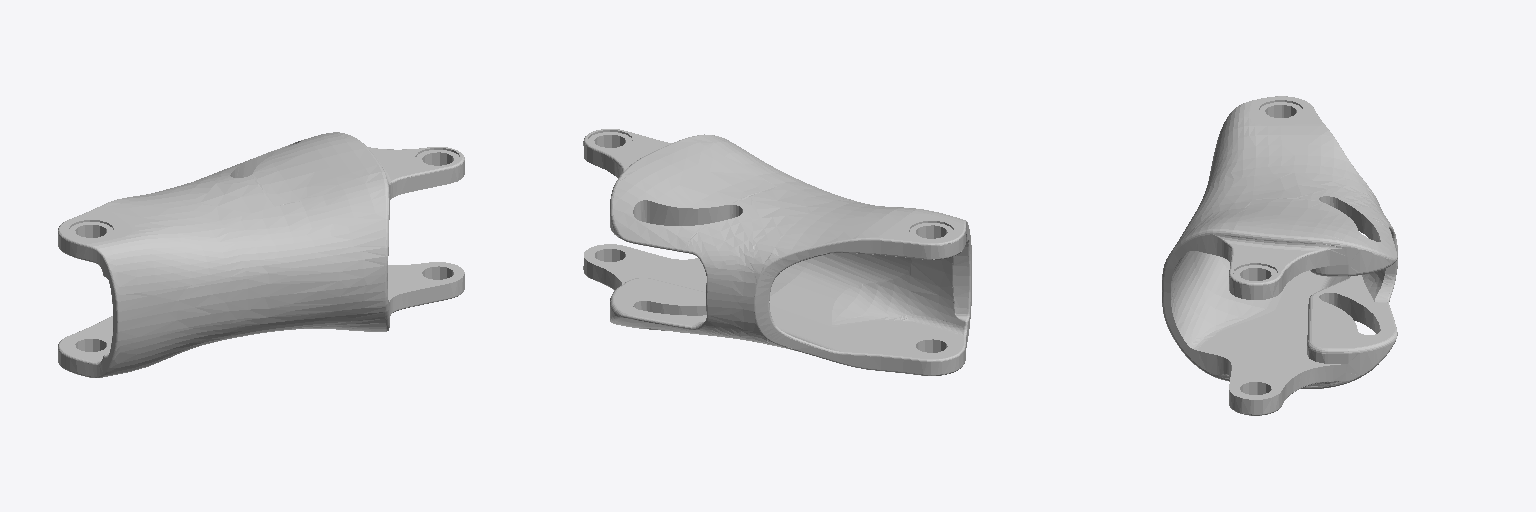
The model's file is index_proximal.obj.
3 renders of one model, left to right at view 1: azimuth 30°, elevation 25°; view 2: azimuth 150°, elevation 25°; view 3: azimuth 270°, elevation 25°, orthographic.
Visible parts, largest first — view 1: if_proximal_link; view 2: if_proximal_link; view 3: if_proximal_link.
Boxes of the visible parts, x1=… form: if_proximal_link: x1=58, y1=132, x2=464, y2=377; if_proximal_link: x1=583, y1=129, x2=971, y2=375; if_proximal_link: x1=1162, y1=96, x2=1397, y2=415.
Bounding box in the file's own units: 0.0414 × 0.0157 × 0.022.